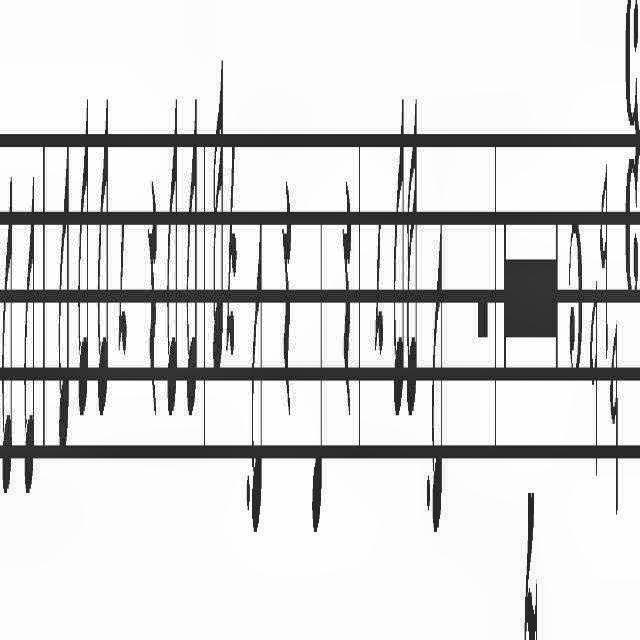Bemol: (610, 314, 622, 554), (588, 284, 600, 504), (600, 150, 610, 374)
Eighth-note: (55, 130, 73, 492), (163, 85, 181, 445), (0, 151, 16, 519), (98, 61, 112, 455), (250, 210, 266, 542), (392, 82, 406, 420), (187, 88, 200, 452), (434, 180, 446, 568), (77, 120, 91, 440), (24, 158, 36, 524)
Eighth-rest: (372, 198, 384, 386), (118, 210, 130, 394)
Quarter-note: (308, 198, 326, 566)
Quarter-rest: (280, 127, 296, 480), (341, 140, 355, 444), (147, 162, 159, 438)
Sixteenth-note: (406, 82, 422, 442), (212, 26, 225, 424)
